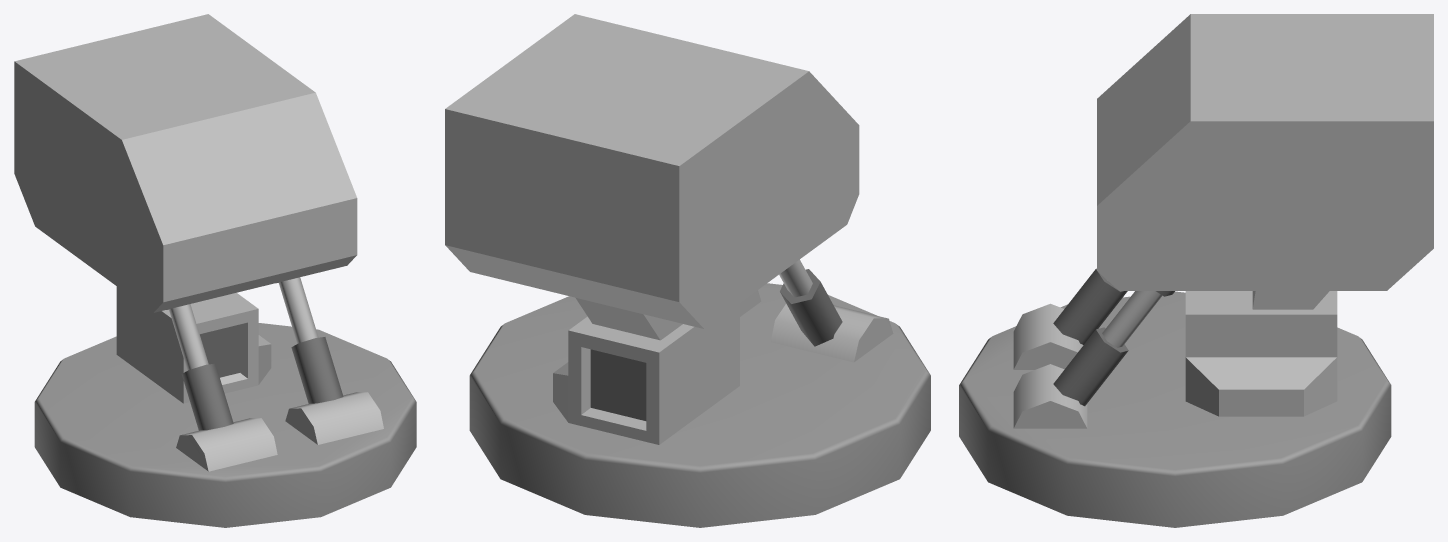
The model's file is turret_012.fbx.
3 renders of one model, left to right at view 1: azimuth 30°, elevation 25°; view 2: azimuth 150°, elevation 25°; view 3: azimuth 270°, elevation 25°, orthographic. The views are drawn at different scales.
Parts seen in each view (by area): view 1: turret_012; view 2: turret_012; view 3: turret_012.
Boxes of the visible parts, box(x1,y1,x2,y2) form: turret_012: box(14, 14, 416, 527); turret_012: box(445, 14, 930, 527); turret_012: box(959, 14, 1433, 527).
Size of the model in its own units: 374 by 411 by 352.
